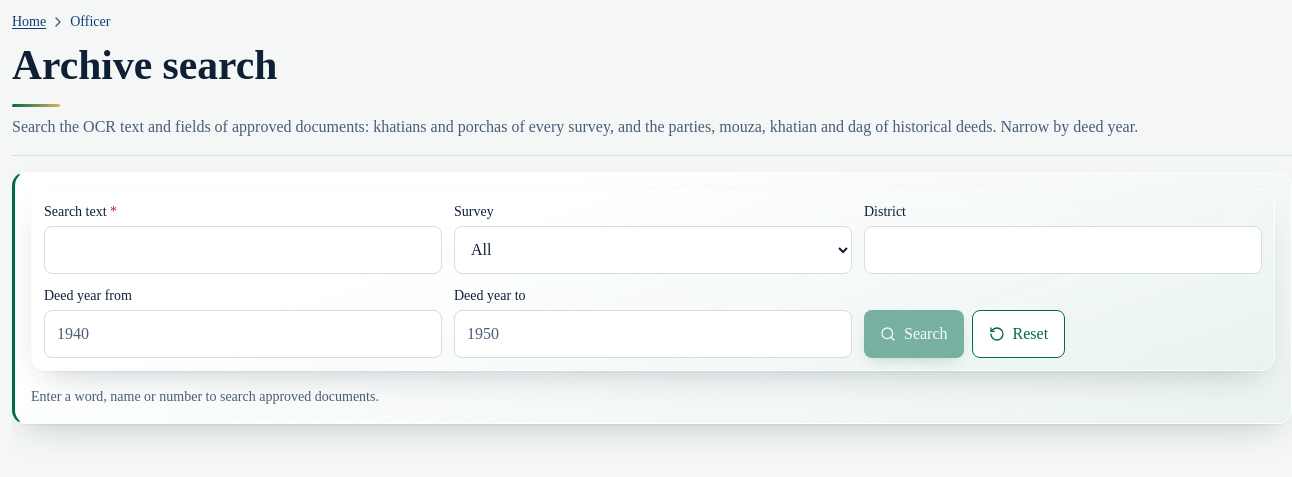
Test: archive search › blocks the search and explains when the years are wrong
In the field labelled "Search text *": (243, 250) x1=44 y1=226 x2=442 y2=274, type "x"
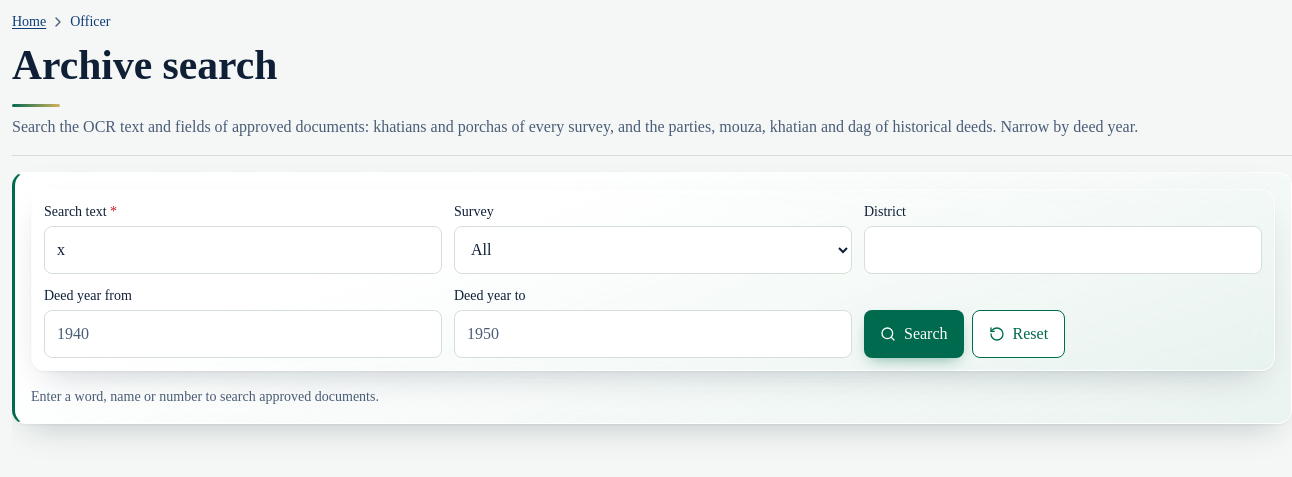
In the field labelled "Deed year from": (243, 334) x1=44 y1=310 x2=442 y2=358, type "1950"
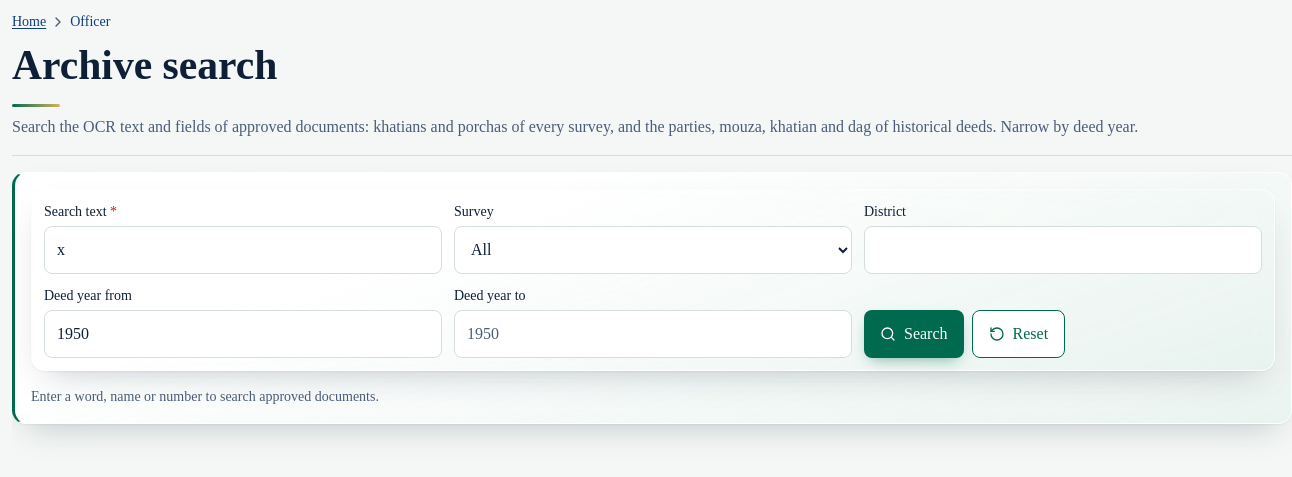
In the field labelled "Deed year to": (653, 334) x1=454 y1=310 x2=852 y2=358, type "1940"
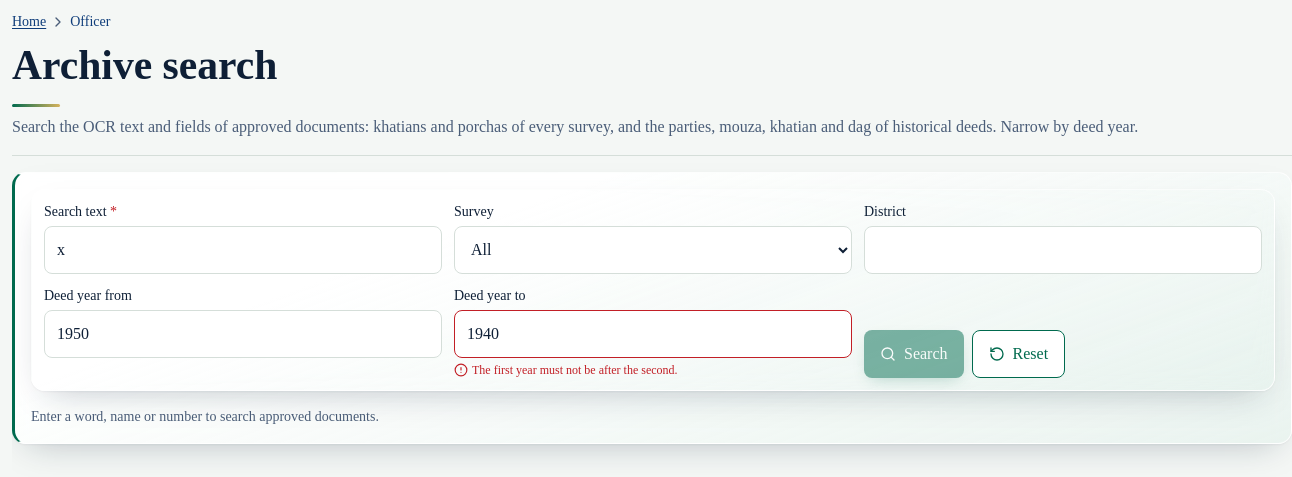
Result: the text "The first year must not be after the second." is shown at x1=472 y1=362 x2=678 y2=378
Result: the button "Search" is disabled at x1=864 y1=330 x2=964 y2=378
Replace the text in the field labelled "Deed year from" with "19": (243, 334) x1=44 y1=310 x2=442 y2=358
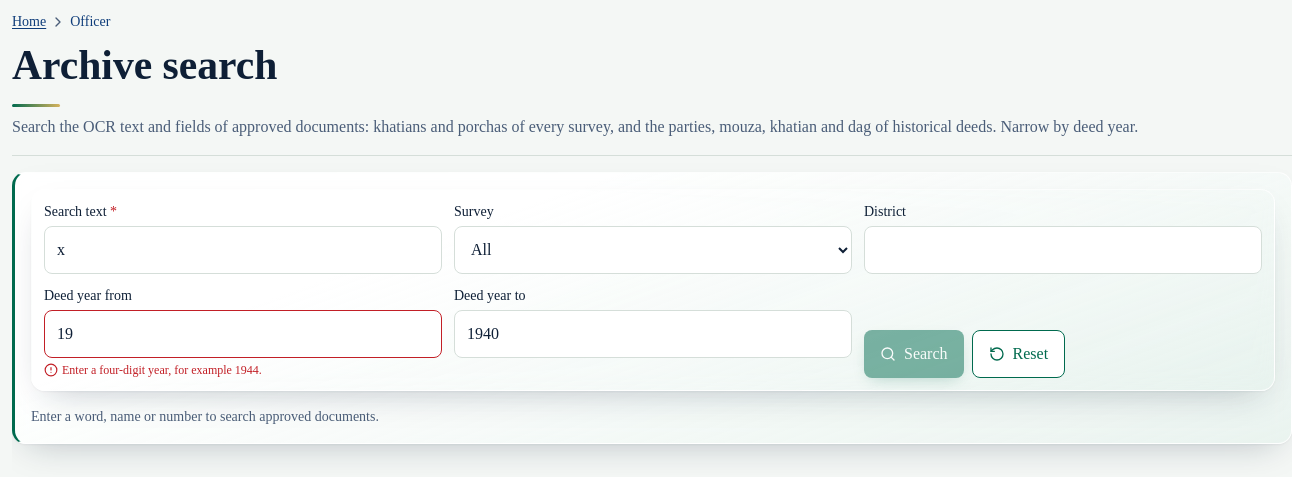
Result: the text "Enter a four-digit year, for example 1944." is shown at x1=62 y1=362 x2=262 y2=378
